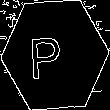P_N: (37, 29, 73, 81)
